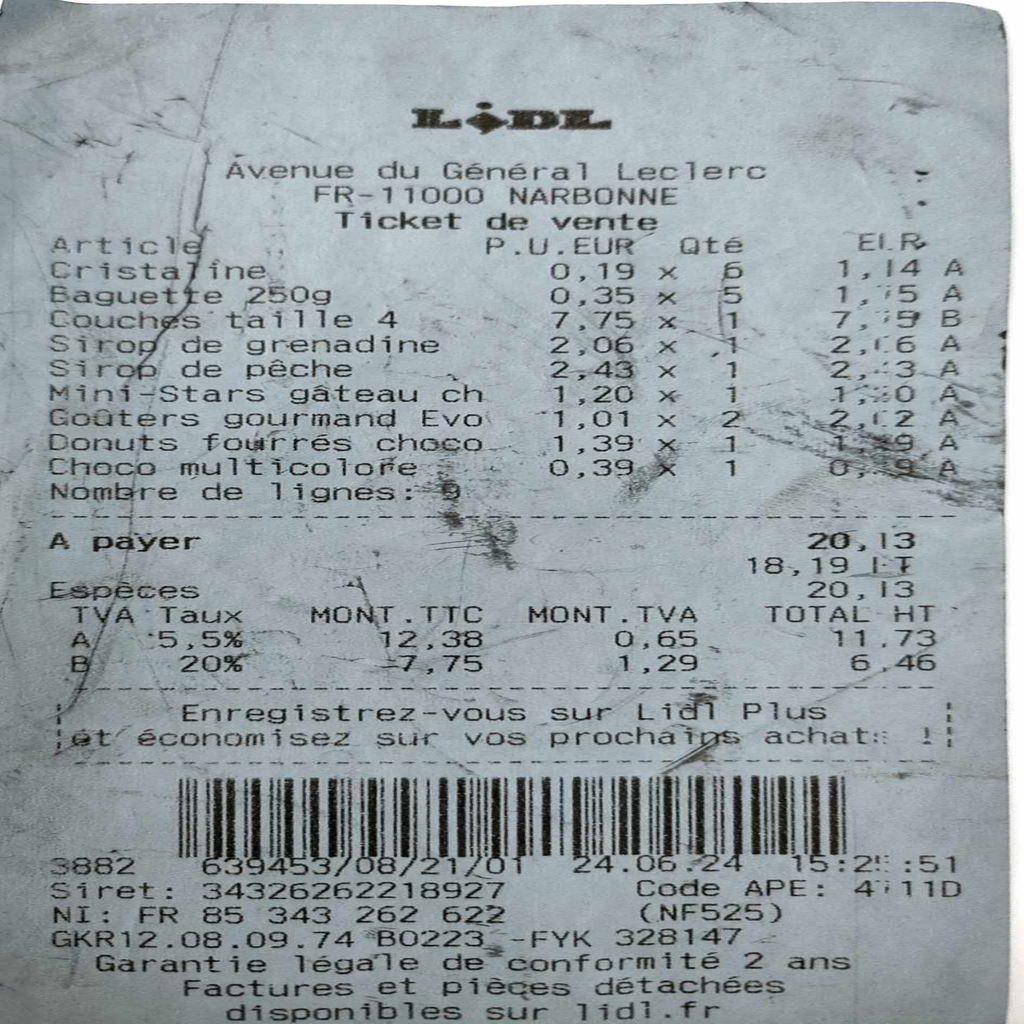recipt: (2, 4, 1011, 1011)
